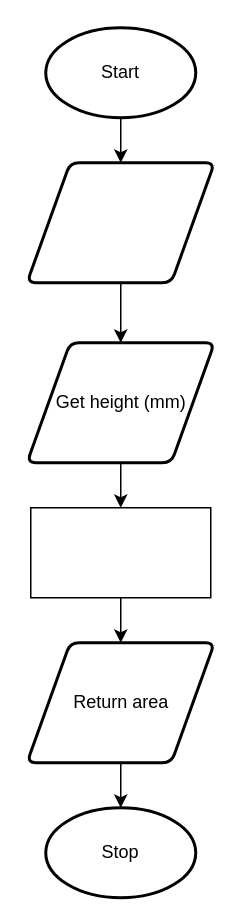
The diagram is 242 pixels wide and 924 high, and some of its shapes have lost their labels. Each missing label, with the centre of its shape:
area of cylinder = 2πrh + 2πr 2: point (120, 552)
Get radius (mm): point (120, 222)
